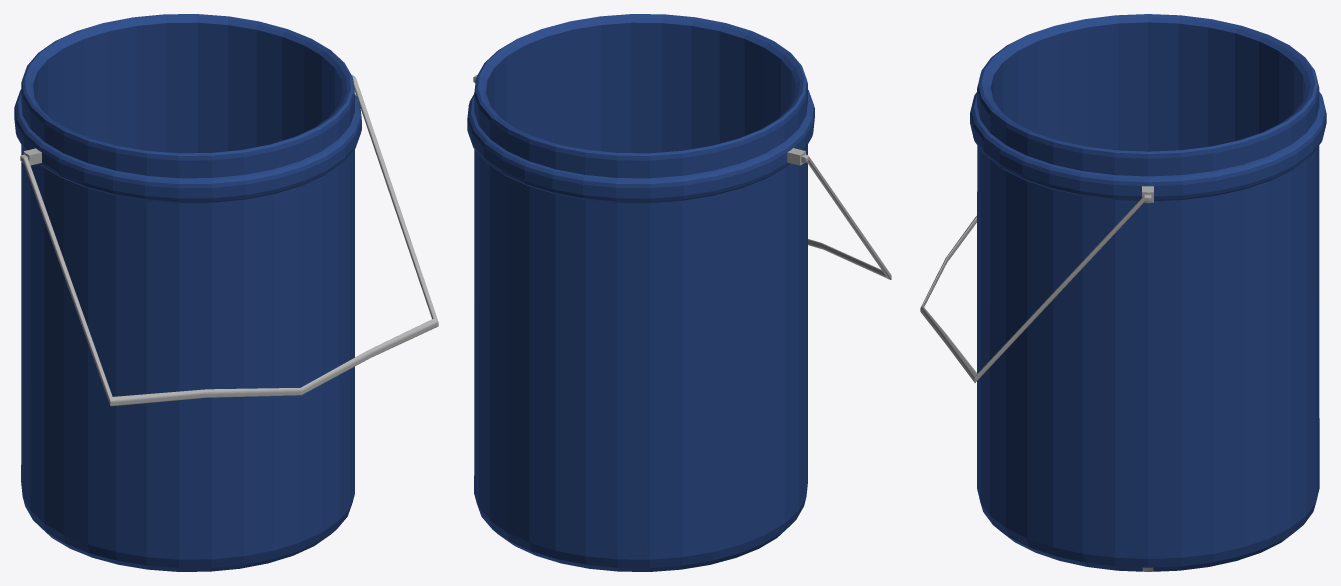
File: bucket.fbx
3 views of the same model, side by side, from view 1: azimuth 30°, elevation 25°; view 2: azimuth 150°, elevation 25°; view 3: azimuth 270°, elevation 25° (orthographic).
Parts seen in each view (by area): view 1: Cylinder; view 2: Cylinder; view 3: Cylinder.
Part boxes in pixels (x1,y1,x2,y2): Cylinder: (14,14,438,571); Cylinder: (467,14,891,571); Cylinder: (920,14,1326,571).
Bounding box in the file's own units: 62.03 × 75.4 × 65.27.
